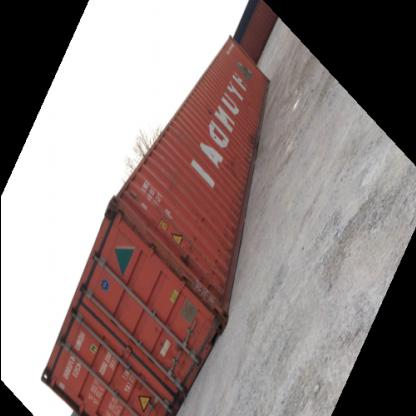Damage: (204, 238, 222, 278), (177, 234, 194, 266), (154, 338, 180, 358), (236, 127, 254, 154), (198, 96, 216, 120), (218, 152, 236, 176), (196, 212, 208, 228), (147, 321, 158, 337), (221, 221, 232, 237), (203, 283, 211, 294)
